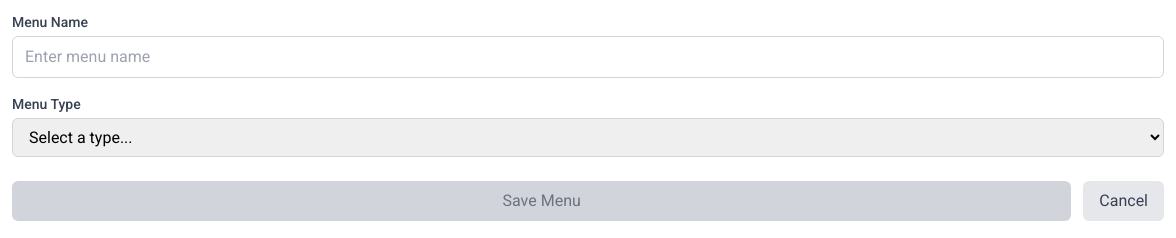
SaveMenuForm › save button disabled logic › should enable save button when form is valid and has items
Type "Valid Menu" into the field labelled "Menu Name".
click(588, 57); type("Valid Menu")  # box [12,36,1164,78]
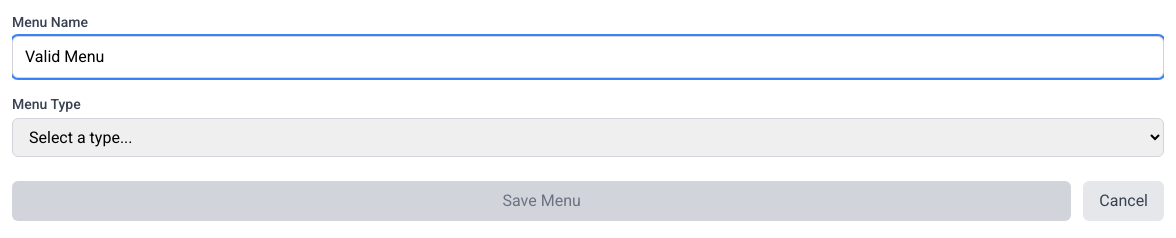
Select "Lunch" in the dropdown labelled "Menu Type" at point(588, 138), box [12,118,1164,157]
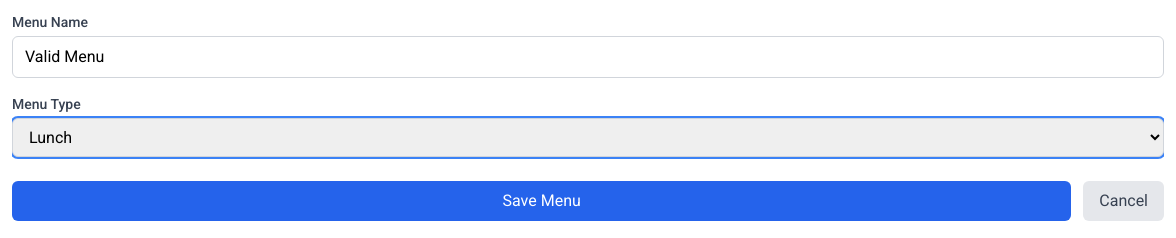
Check: the button "Save Menu" is enabled, box [12,181,1071,221]
